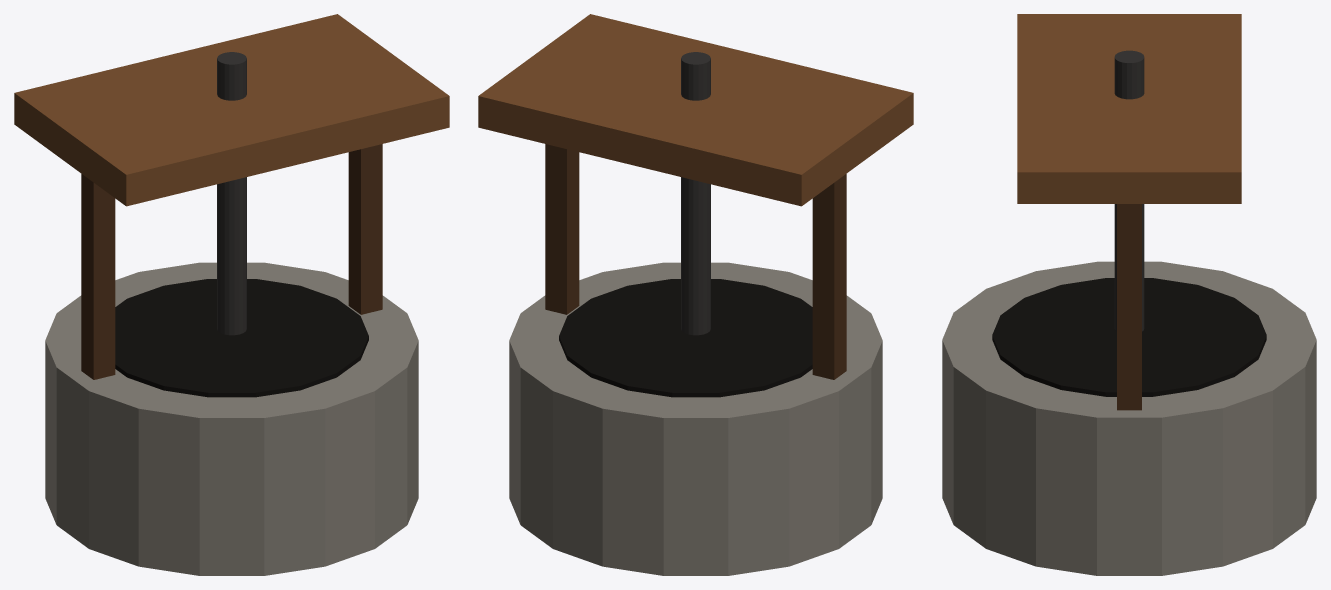
Rendered from well.bd05d56c.glb.
The picture shows the model from 3 angles, left to right: view 1: azimuth 30°, elevation 25°; view 2: azimuth 150°, elevation 25°; view 3: azimuth 270°, elevation 25°; orthographic projection.
Visible parts, largest first — view 1: body; view 2: body; view 3: body.
Part boxes in pixels (box(x1,y1,x2,y2)): body: box(14, 14, 449, 575); body: box(478, 14, 913, 575); body: box(942, 14, 1316, 575).
Size of the model in its own units: 1.5 by 1.95 by 1.5.
